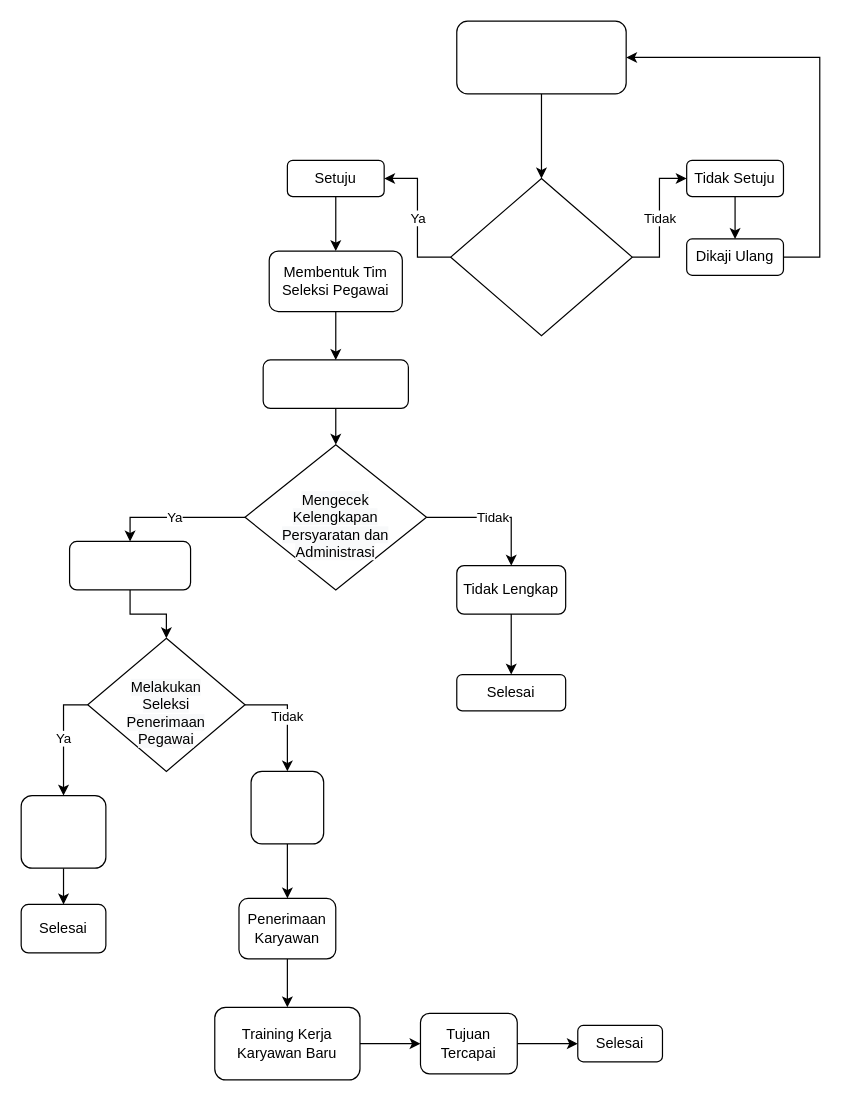
This 851x1101 diagram has some shape labels left out. The shapes that lost their labels are listed below. From the top down, each one's box as (x1, y1, x2, y2) in pixels, then its label:
(456, 20, 626, 94): Tim HRD Menganalisis Kebutuhan Pegawai
(450, 177, 632, 336): Meminta Persetujuan pada Management
(262, 359, 408, 408): Membuka Lowongan
(68, 540, 191, 590): Lengkap
(250, 770, 324, 844): Lulus Seleksi
(20, 794, 106, 868): Tidak Lulus Seleksi
